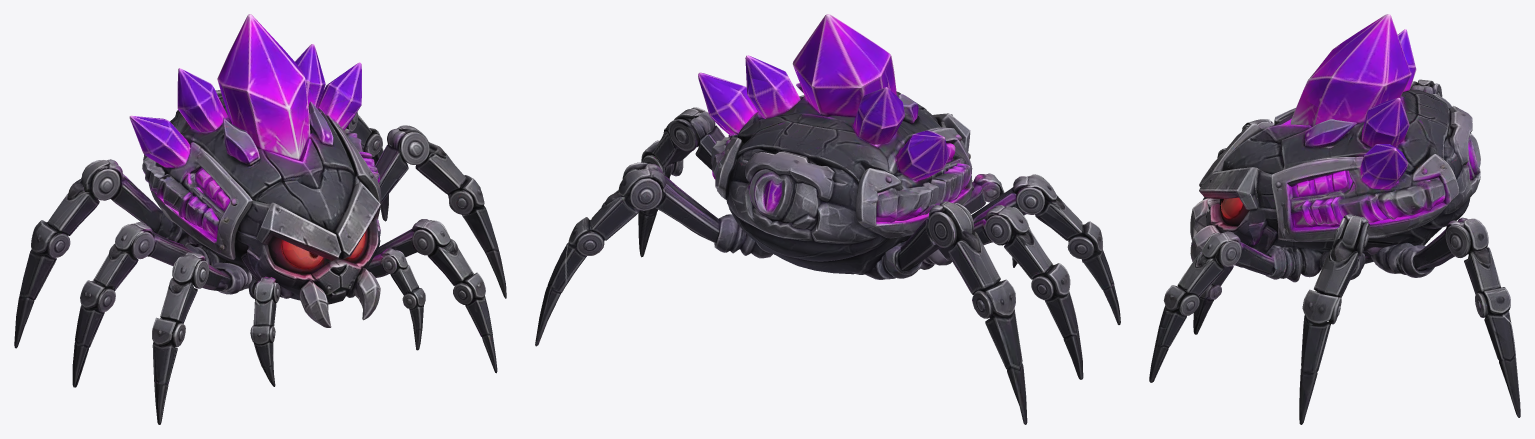
The model's file is kristalorumcek.glb.
3 views of the same model, side by side, from view 1: azimuth 30°, elevation 25°; view 2: azimuth 150°, elevation 25°; view 3: azimuth 270°, elevation 25° (orthographic). The views are drawn at different scales.
Bounding box in the file's own units: 1.89 × 1.3 × 1.43.
1 material, 1 textured.
